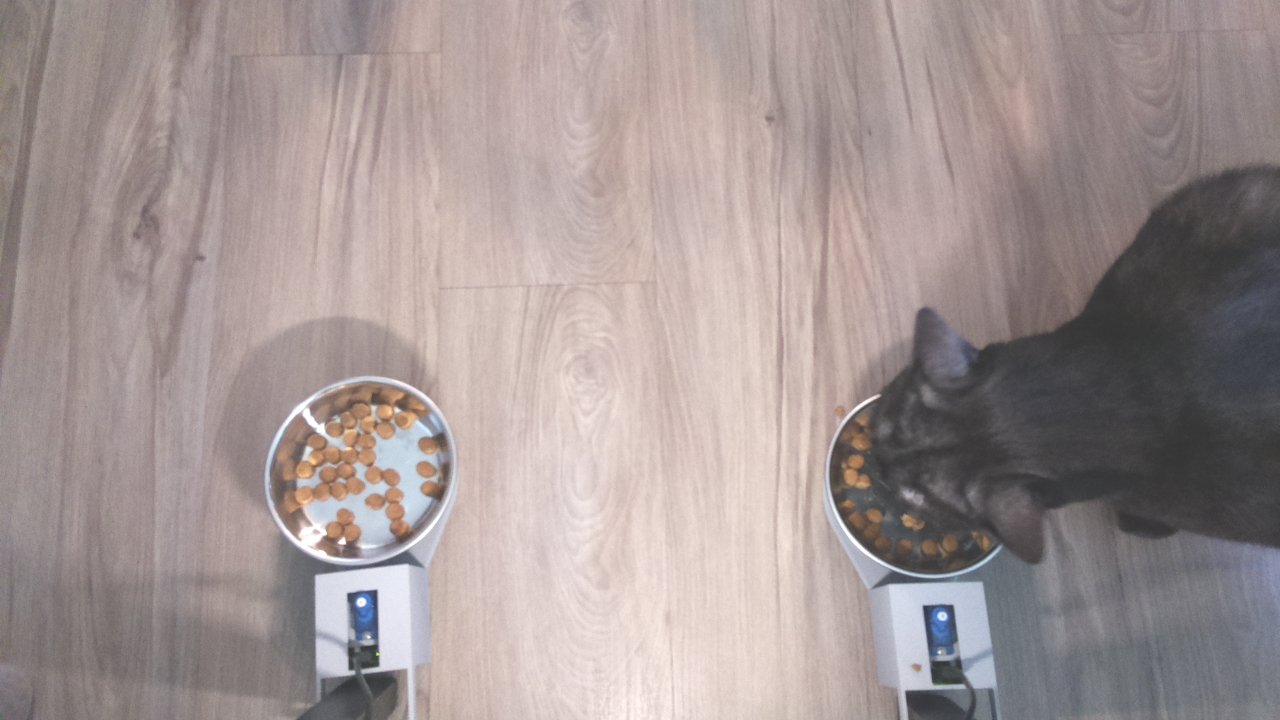open_bowl: (262, 372, 462, 577)
saki_eating: (813, 297, 1071, 596)
